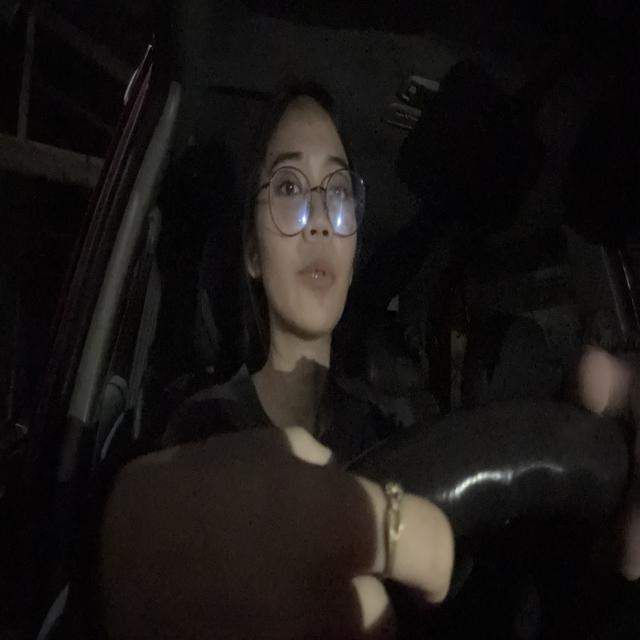open: (268, 146, 312, 207), (327, 151, 354, 216)
